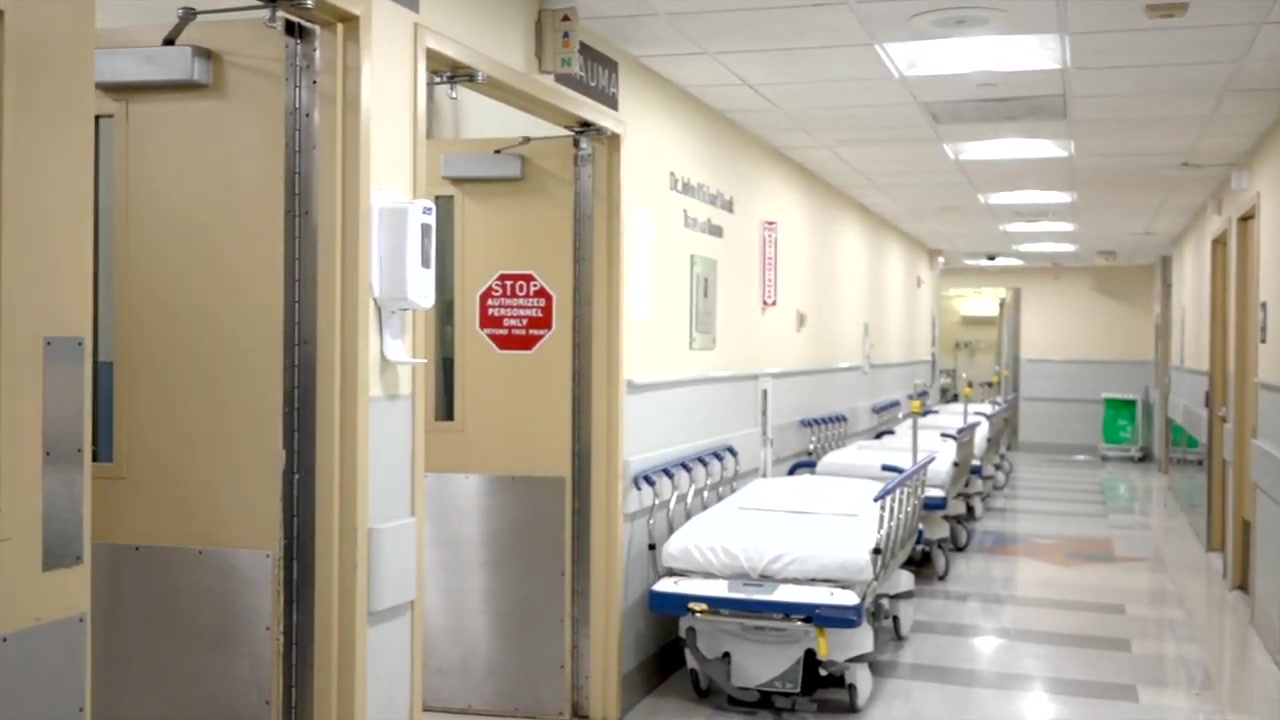bedrail: (633, 444, 741, 579), (872, 454, 937, 581), (797, 411, 849, 462), (941, 421, 984, 466), (871, 396, 904, 429)
dispenser: (377, 195, 437, 368)
hallway_assist_bar: (623, 426, 763, 517), (771, 407, 853, 460)
hospital_bed: (662, 455, 919, 720), (813, 437, 983, 551), (873, 429, 1011, 491)
waste_bin: (1096, 395, 1150, 464)
